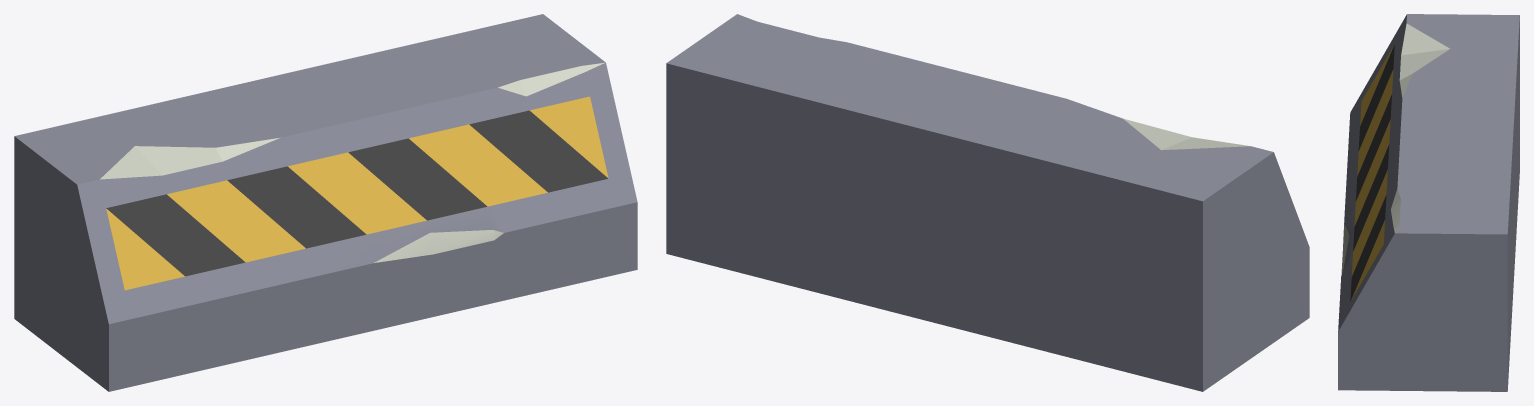
Rendered from Barrier_Single.glb.
3 renders of one model, left to right at view 1: azimuth 30°, elevation 25°; view 2: azimuth 150°, elevation 25°; view 3: azimuth 270°, elevation 25°, orthographic. The views are drawn at different scales.
Visible parts, largest first — view 1: Barrier_Single; view 2: Barrier_Single; view 3: Barrier_Single.
Boxes of the visible parts, bbox=[...] form: Barrier_Single: bbox=[14, 14, 637, 391]; Barrier_Single: bbox=[666, 14, 1309, 391]; Barrier_Single: bbox=[1338, 14, 1519, 391].
Size of the model in its own units: 1.89 by 0.6281 by 0.6569.
